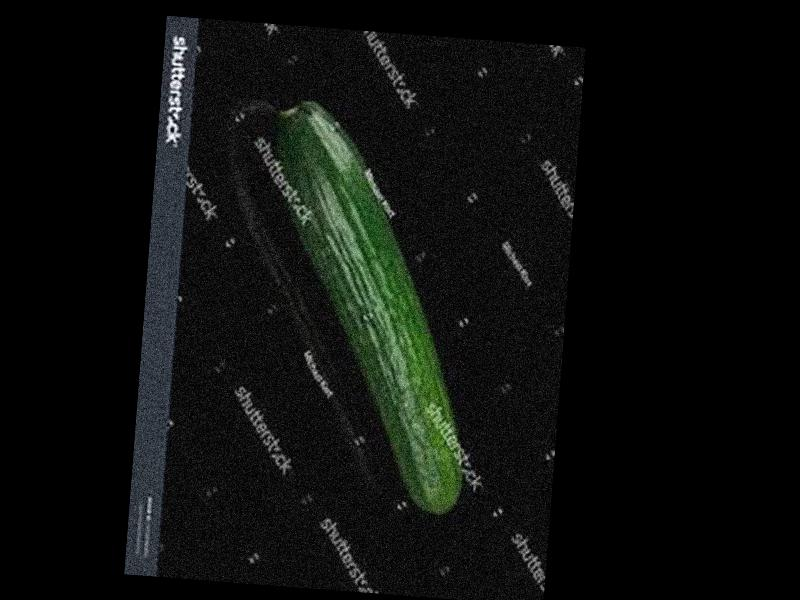Cucumber: (242, 98, 491, 518)
